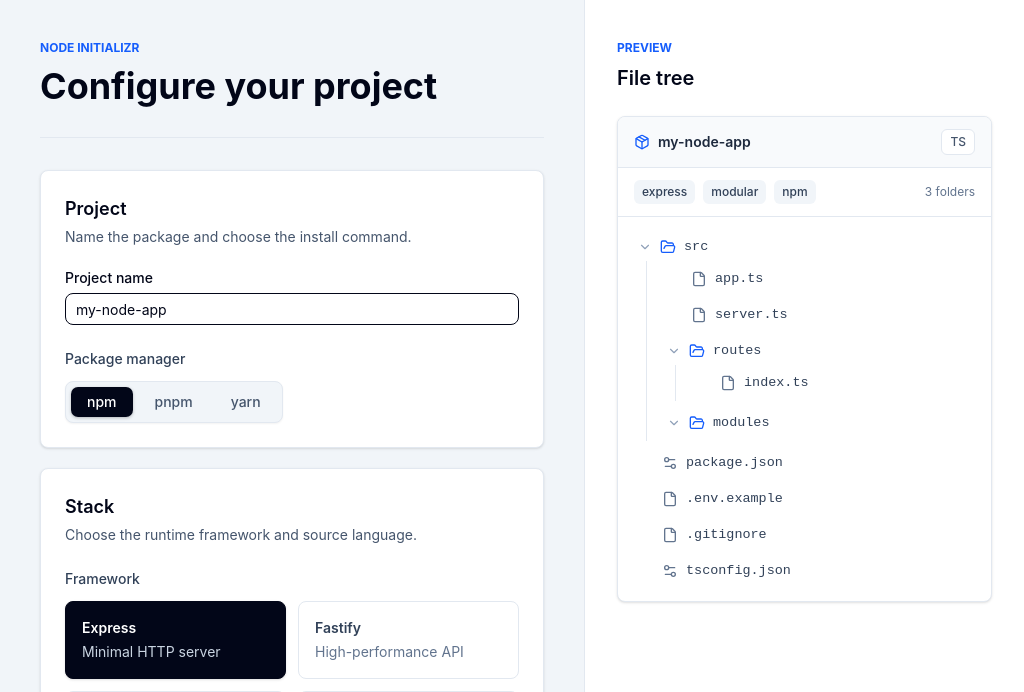
Scenario: App › altera framework ao clicar na opcao
Click the button "Fastify High-performance API" at (408, 640), box [298,601,519,679]
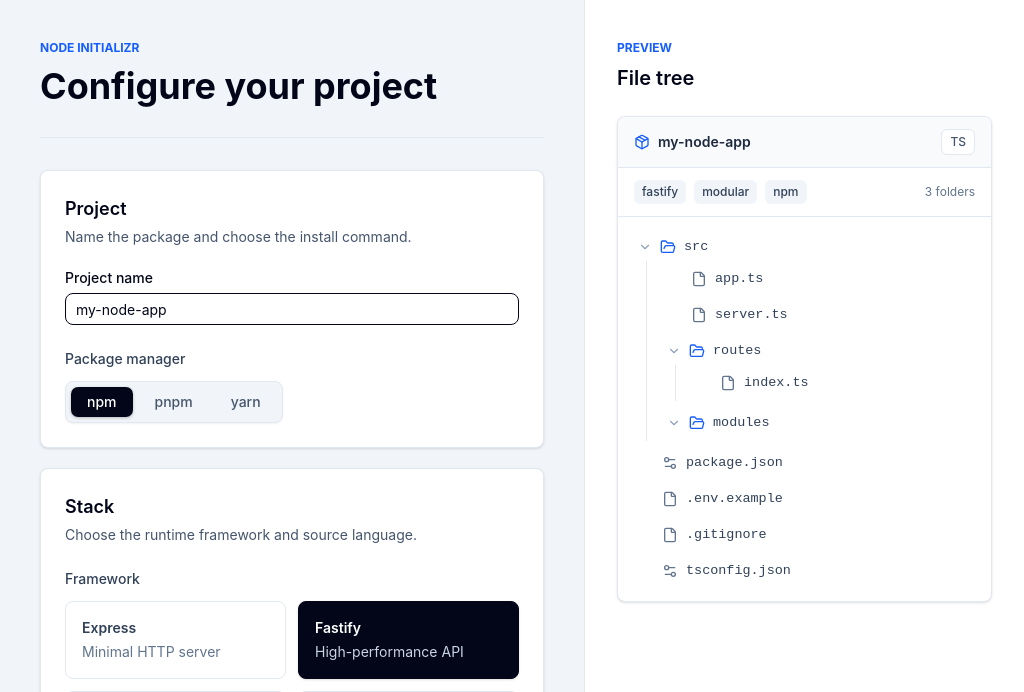
Result: the text "fastify" is shown at [634,180,686,204]
